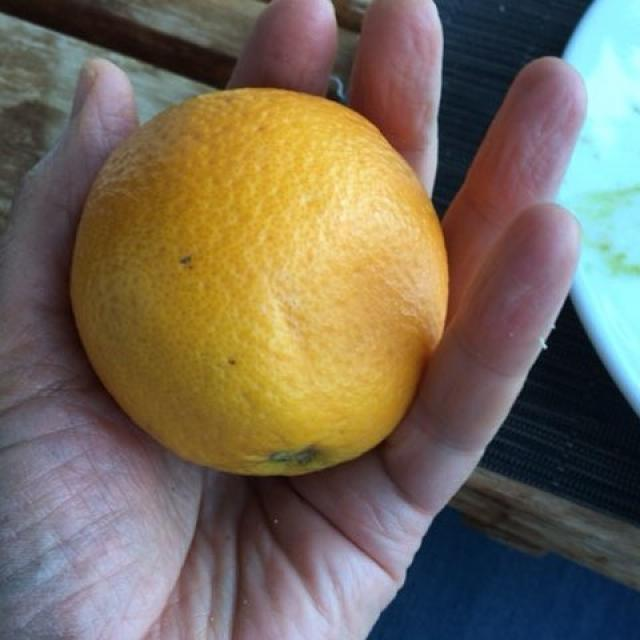orange: (66, 85, 449, 483)
